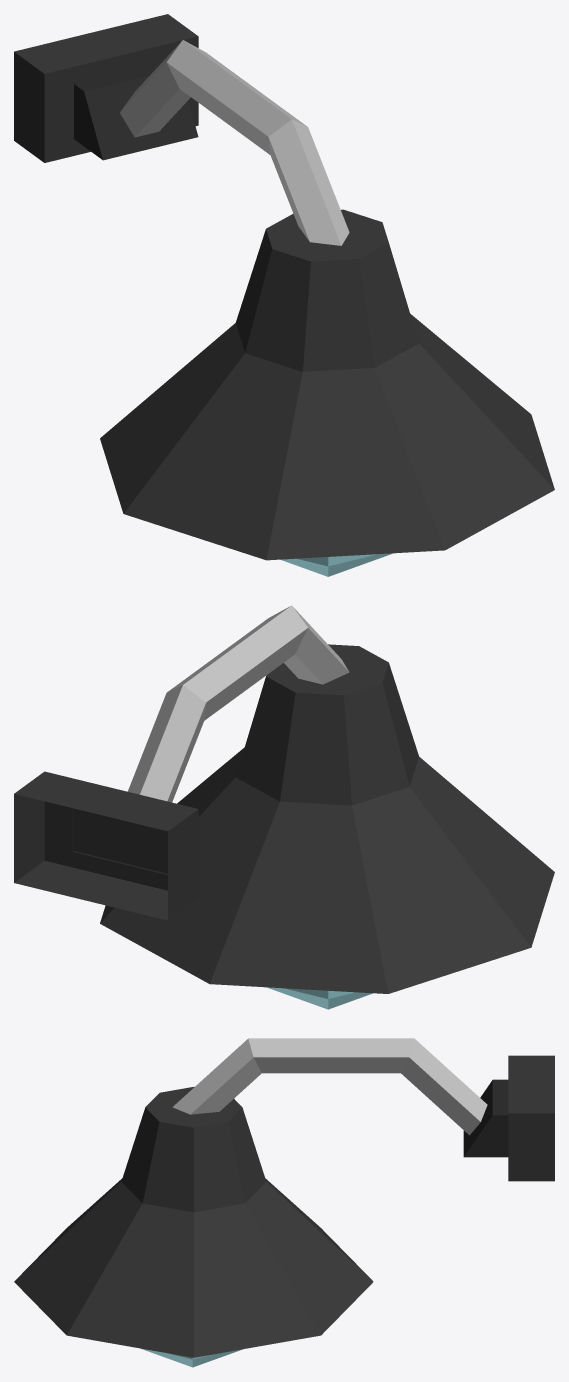
The model's file is Street_light_B_01.FBX.
The picture shows the model from 3 angles, top to bottom: view 1: azimuth 30°, elevation 25°; view 2: azimuth 150°, elevation 25°; view 3: azimuth 270°, elevation 25°; orthographic projection. The views are drawn at different scales.
Visible parts, largest first — view 1: Street_light_B_01; view 2: Street_light_B_01; view 3: Street_light_B_01.
Part boxes in pixels (x1=…): Street_light_B_01: x1=14, y1=14, x2=554, y2=576; Street_light_B_01: x1=14, y1=605, x2=554, y2=1009; Street_light_B_01: x1=14, y1=1038, x2=554, y2=1367.
Bounding box in the file's own units: 0.7125 × 0.719 × 1.07.
